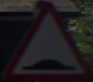Speed Breaker ahead: (9, 9, 83, 74)
